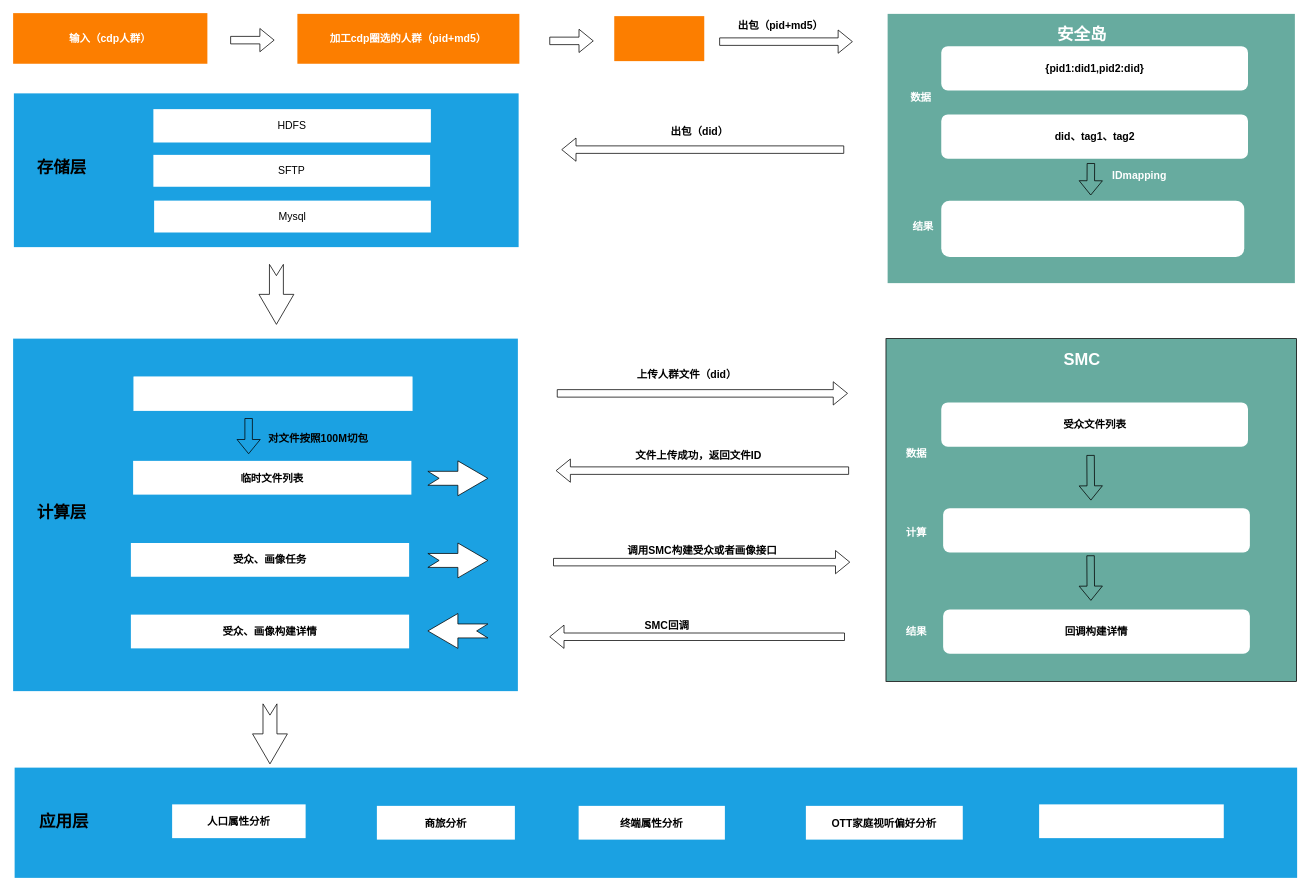
The diagram is 1310 pixels wide and 890 high, and some of its shapes have lost their labels. Here are the shapes that lost their labels. From the top down, the centre of each, then its label:
At point (659, 38): "文件".
At point (1092, 228): "did文件".
At point (272, 393): "smc_did_tmp(did临时数据)".
At point (1096, 530): "受众构建、画像渲染".
At point (1131, 821): "城市热力图".
